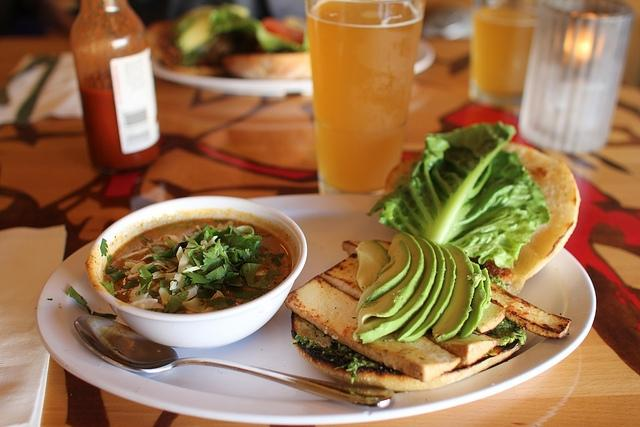avocado: (352, 236, 438, 344), (356, 231, 424, 328), (399, 242, 456, 342), (397, 237, 446, 341), (432, 244, 482, 344), (356, 240, 412, 313), (458, 260, 486, 338), (355, 241, 390, 292)
lettuce: (365, 120, 550, 268), (204, 238, 224, 258)
